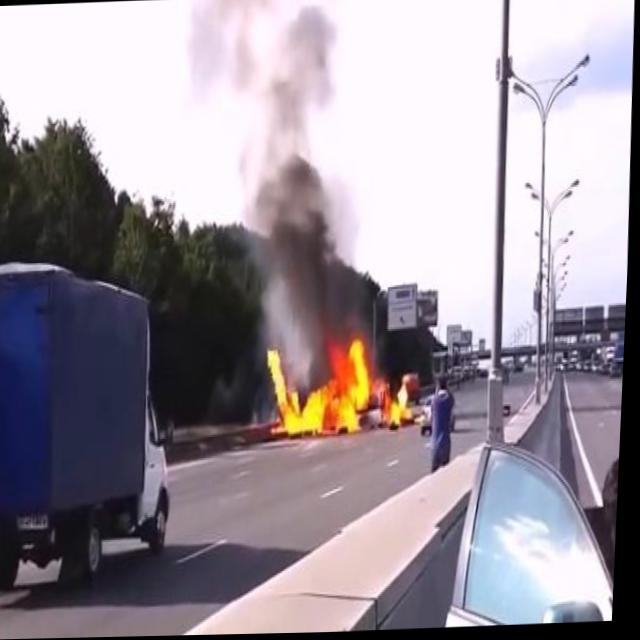fire: (264, 333, 381, 438), (389, 375, 422, 432)
